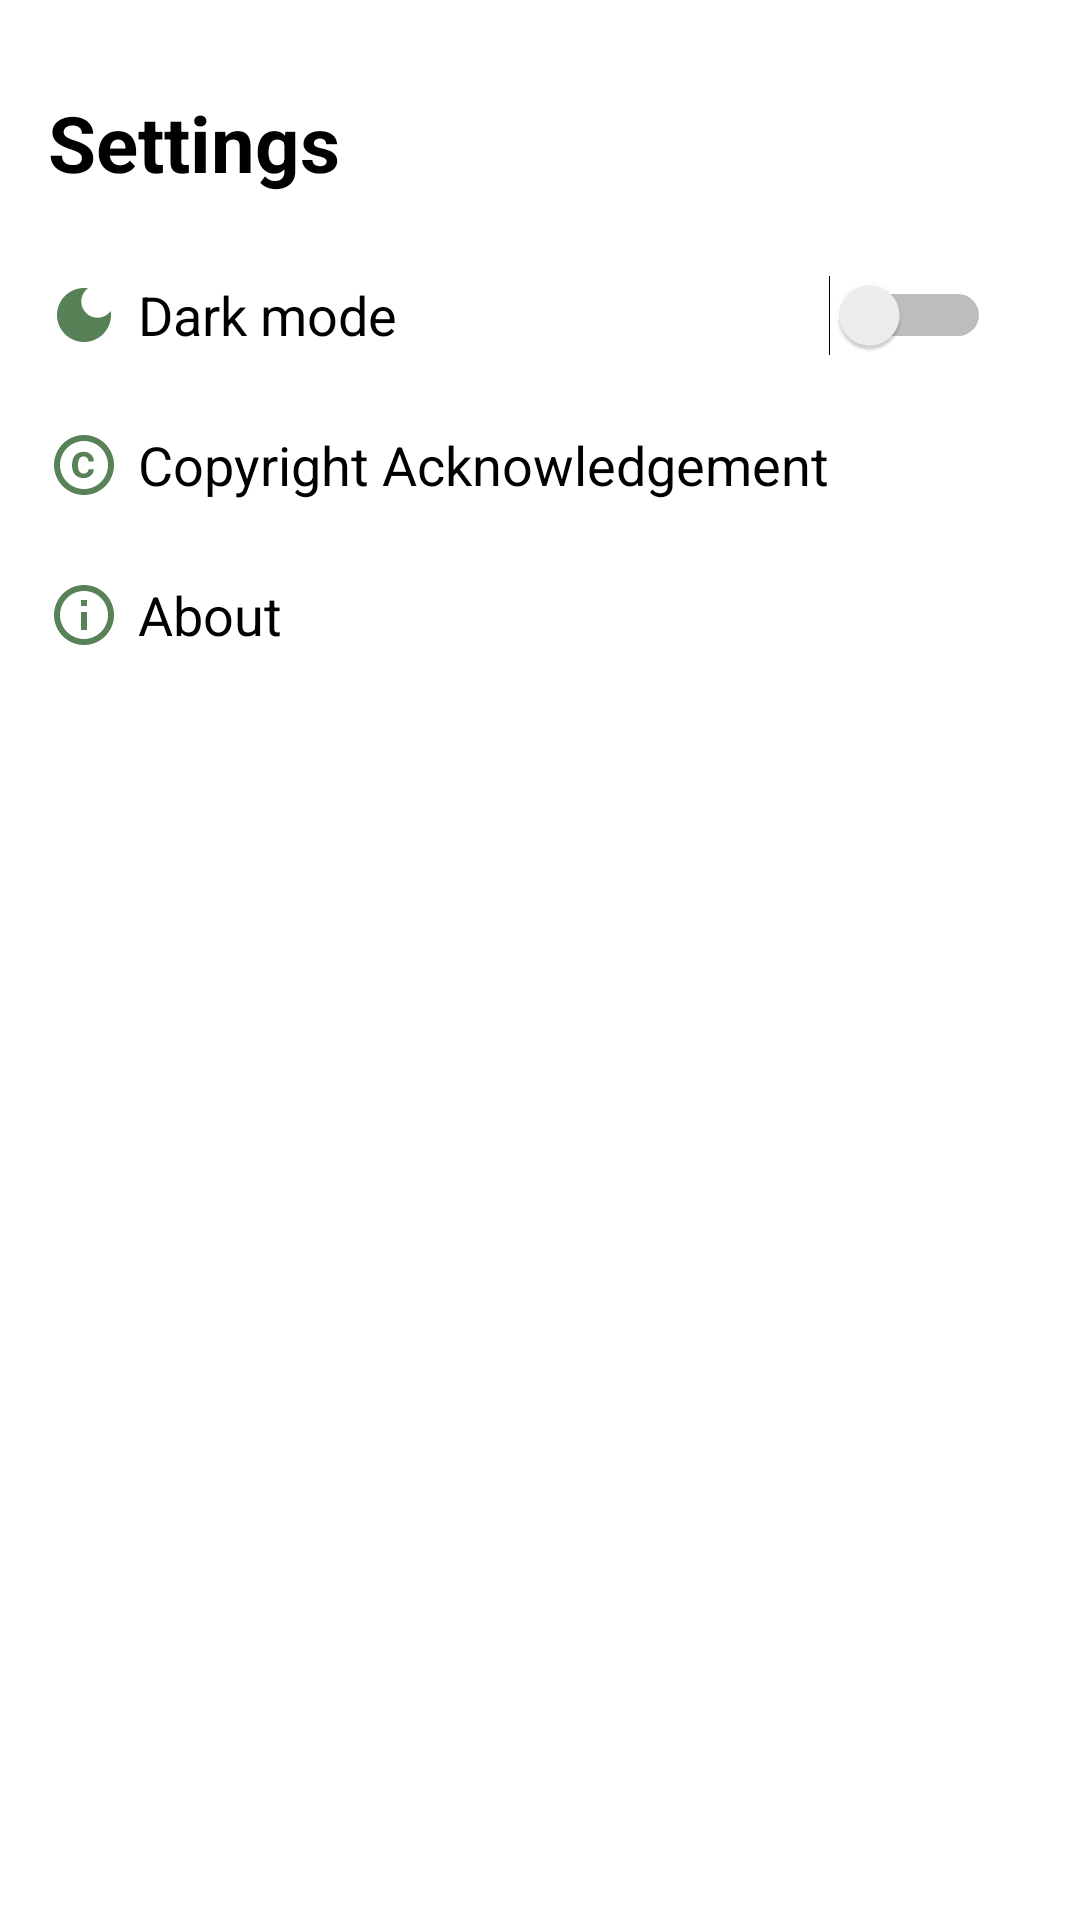

Screen size 1080px x 1920px. Icon name, then its box in pixels as Rect(x1, y1, x2, y2):
info: Rect(54, 585, 114, 645)
